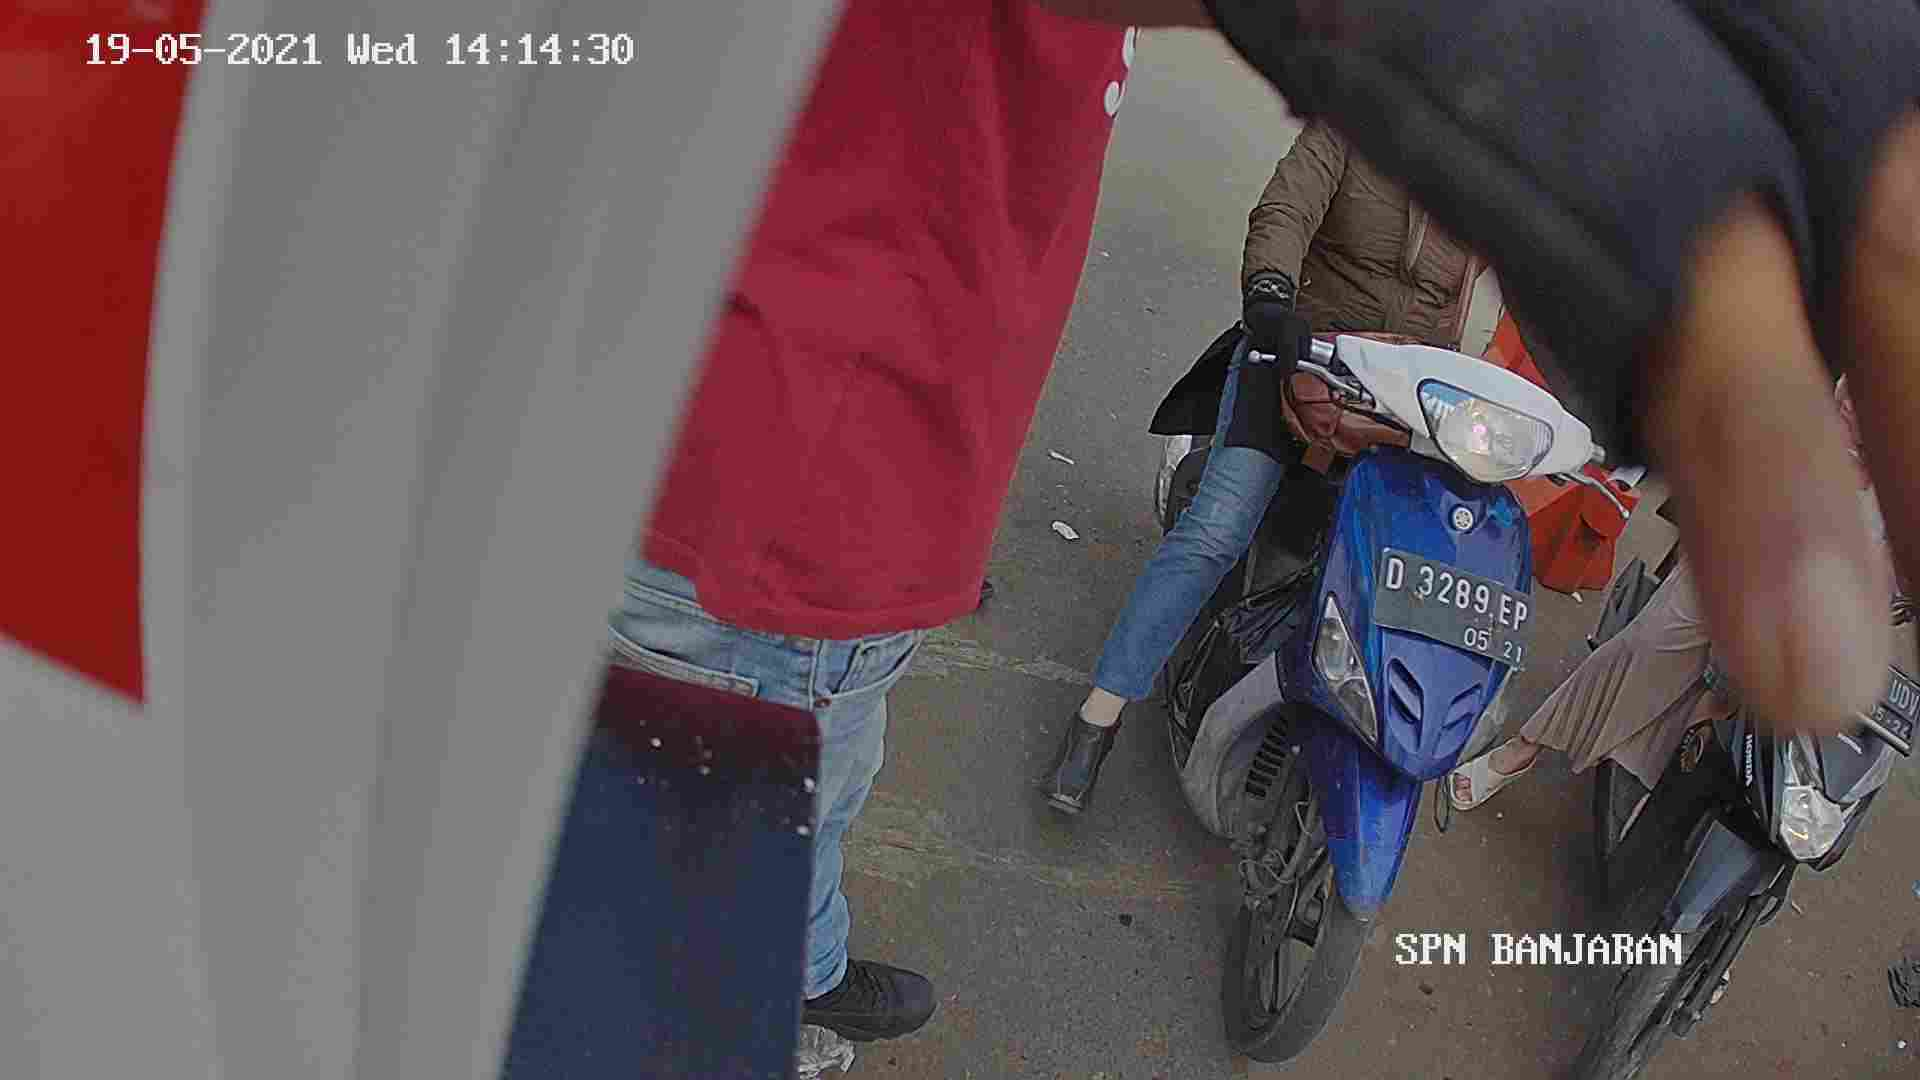motor: (1127, 291, 1564, 1080)
